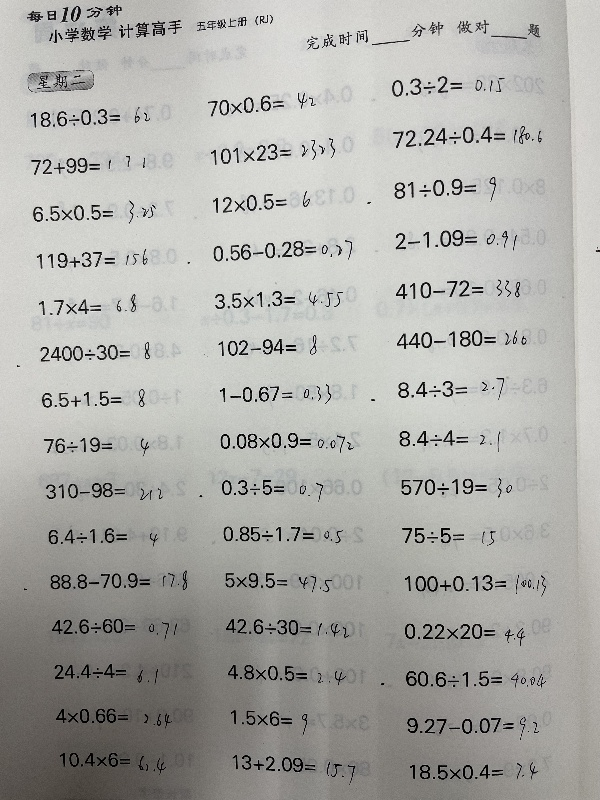equation: (227, 747, 357, 789), (394, 568, 549, 601), (400, 614, 526, 652), (399, 662, 549, 693), (400, 710, 550, 741), (399, 757, 549, 788), (388, 121, 544, 149), (221, 612, 350, 645), (48, 567, 191, 596), (43, 611, 186, 640), (214, 520, 349, 550), (217, 655, 352, 685), (208, 236, 355, 263), (46, 658, 168, 689), (51, 703, 173, 734), (49, 745, 171, 776), (214, 566, 336, 597), (390, 224, 519, 253), (206, 136, 338, 164), (215, 427, 356, 453), (390, 172, 500, 205), (390, 274, 523, 301), (210, 285, 345, 311), (27, 199, 158, 225), (391, 325, 529, 349), (386, 70, 507, 97), (392, 376, 513, 403), (220, 705, 319, 738), (214, 330, 319, 361), (396, 521, 501, 552), (41, 477, 166, 503), (396, 474, 516, 501), (216, 380, 335, 407), (395, 426, 504, 455), (35, 337, 153, 363), (26, 104, 152, 128), (216, 474, 326, 501), (47, 526, 160, 552), (26, 152, 148, 176), (32, 246, 150, 270), (36, 386, 149, 411), (42, 433, 155, 458), (203, 91, 318, 115), (208, 189, 313, 215), (35, 293, 142, 317)
